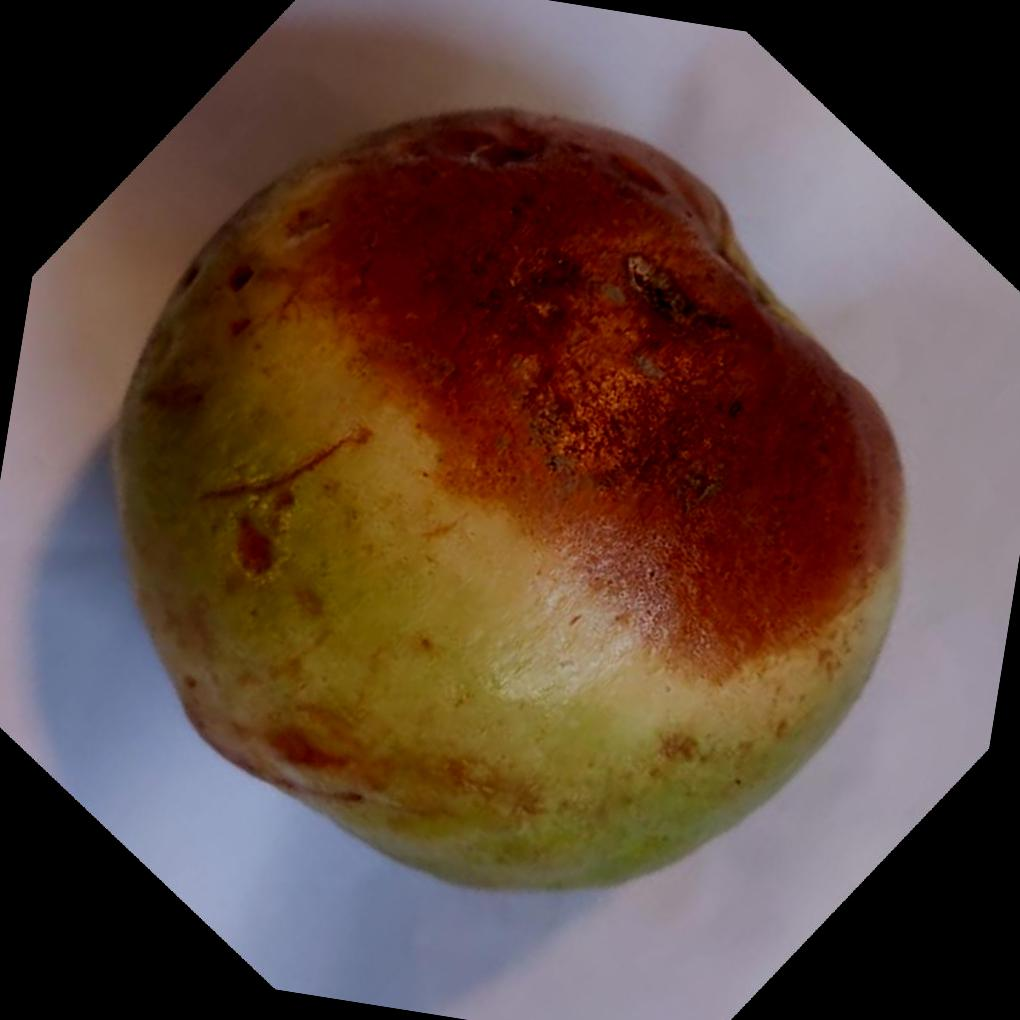FreshOrange: (103, 101, 903, 894)
